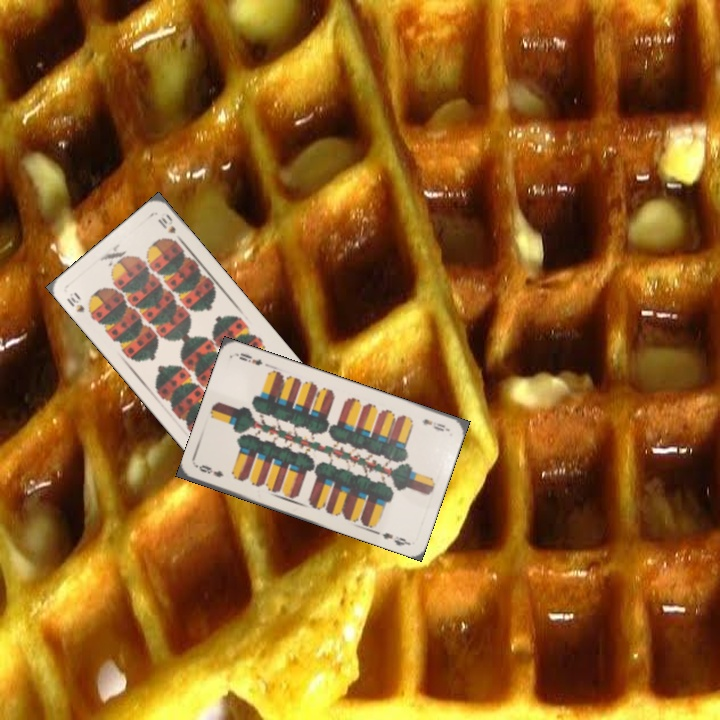E9: (417, 415, 450, 434), (195, 461, 226, 480)
S10: (62, 288, 95, 320)
